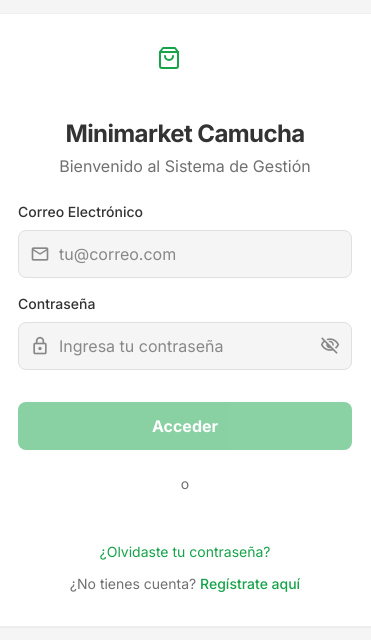
Test: Login › should show error with invalid credentials
In the field with test id "email-input": [185, 254] box [18,230,352,278], type "invalid@email.com"
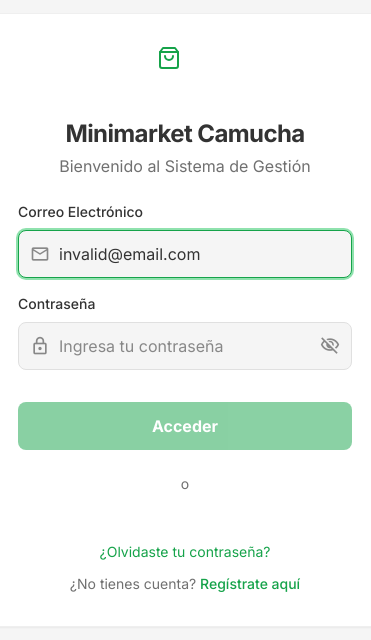
In the password field with test id "password-input": [185, 346] box [18,322,352,370], type "WrongPassword123"
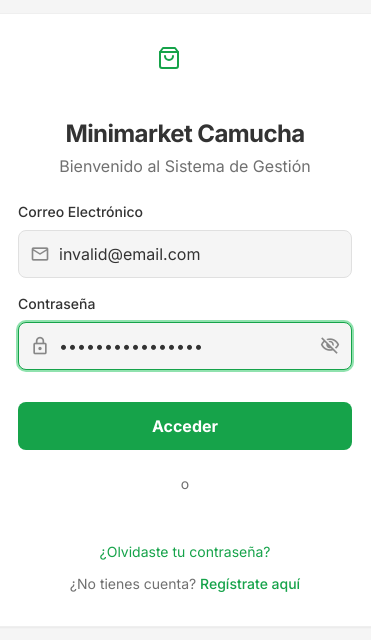
Click the button with test id "login-button": [185, 426] box [18,402,352,450]
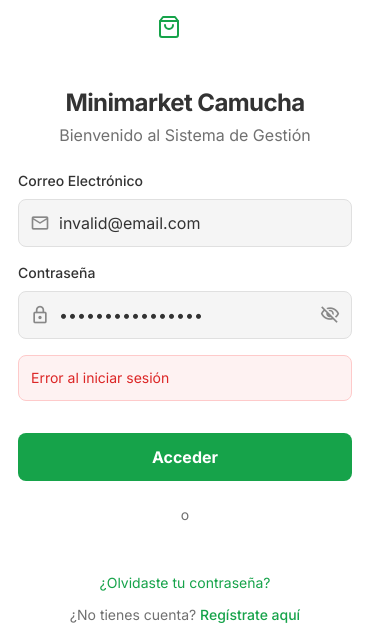
Now the element with test id "error-message" is shown, box [18,355,352,401]
